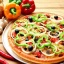olive: (25, 44, 34, 52), (27, 17, 36, 24), (13, 28, 20, 35), (51, 25, 58, 31), (53, 14, 59, 21)
pepper: (14, 33, 33, 45)
pizza: (6, 14, 64, 64)
